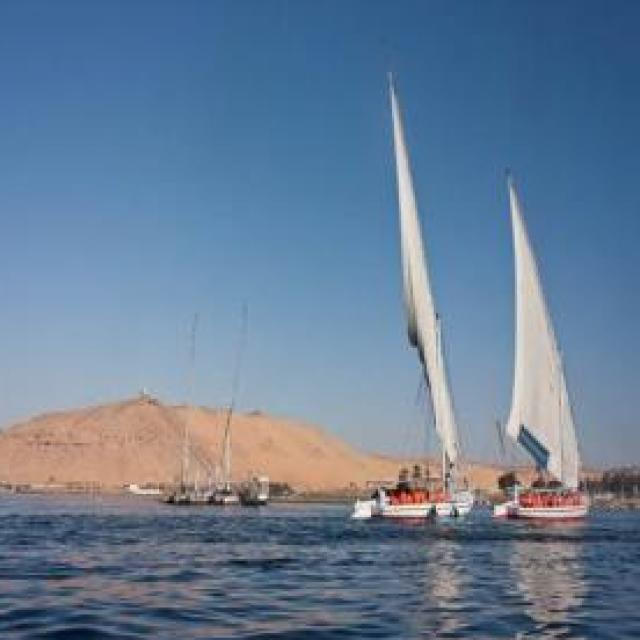sailboat: (347, 66, 472, 515), (488, 158, 592, 523), (205, 304, 274, 508), (164, 311, 222, 506)
